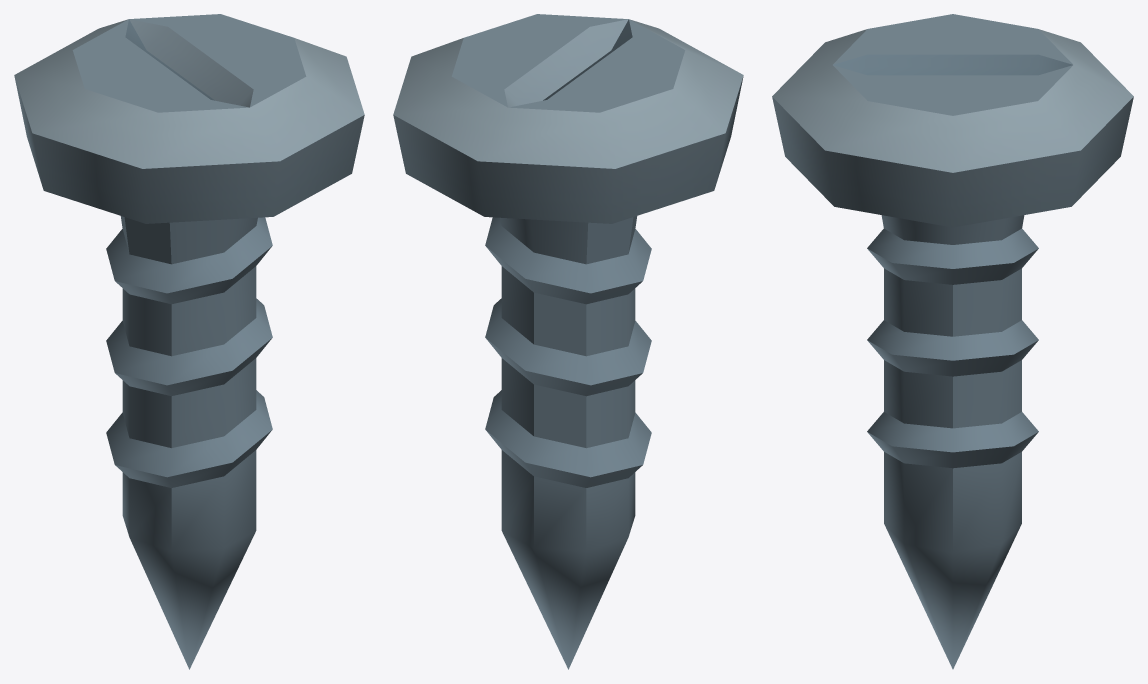
The model's file is screw_A.glb.
3 renders of one model, left to right at view 1: azimuth 30°, elevation 25°; view 2: azimuth 150°, elevation 25°; view 3: azimuth 270°, elevation 25°, orthographic.
Visible parts, largest first — view 1: screw_A; view 2: screw_A; view 3: screw_A.
Part boxes in pixels (bbox=[...]): screw_A: bbox=[14, 14, 364, 669]; screw_A: bbox=[393, 14, 743, 669]; screw_A: bbox=[772, 14, 1133, 669].
Bounding box in the file's own units: 0.1589 × 0.2931 × 0.1589.
Materials: 1 (1 with a texture image).
